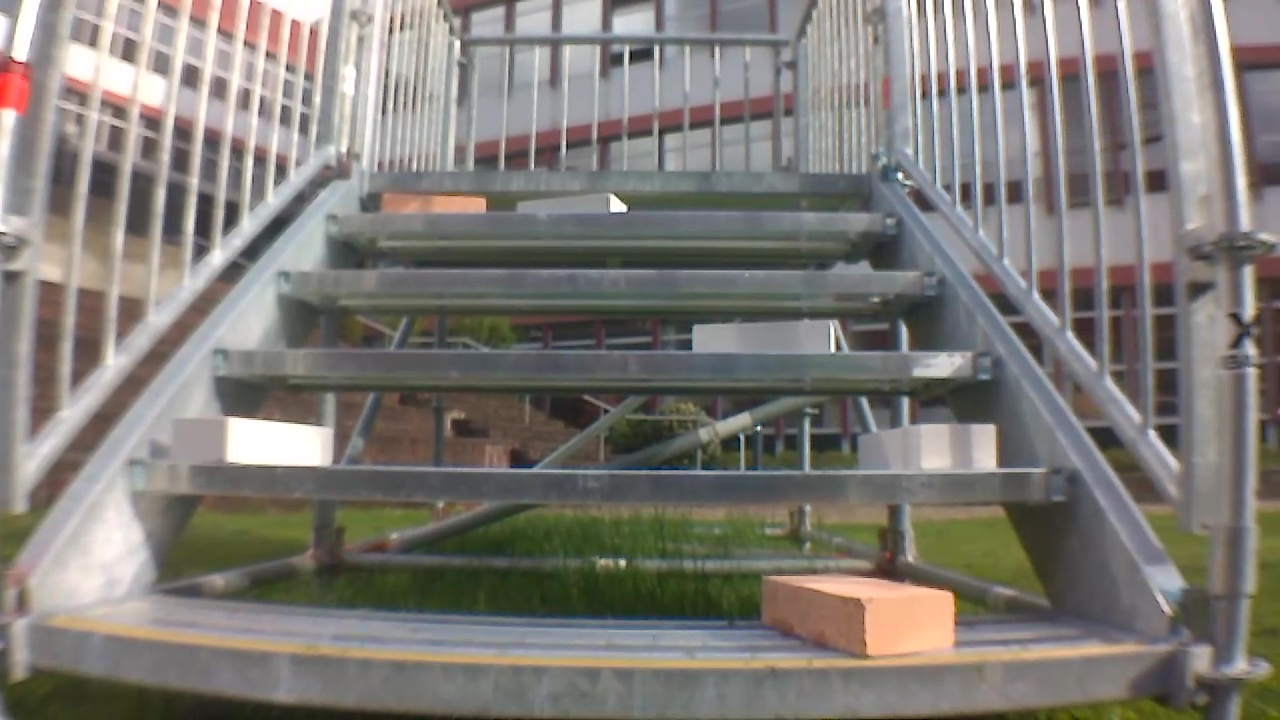brick: (763, 576, 952, 656), (172, 417, 330, 464), (858, 422, 995, 472), (692, 322, 834, 354), (517, 194, 625, 213), (383, 193, 486, 212)
edge: (30, 625, 1178, 716), (127, 459, 1068, 503), (215, 349, 1002, 378), (283, 269, 940, 294), (327, 213, 907, 234), (367, 171, 876, 192)
stairs: (6, 3, 1263, 716)
steps: (20, 162, 1193, 717)
